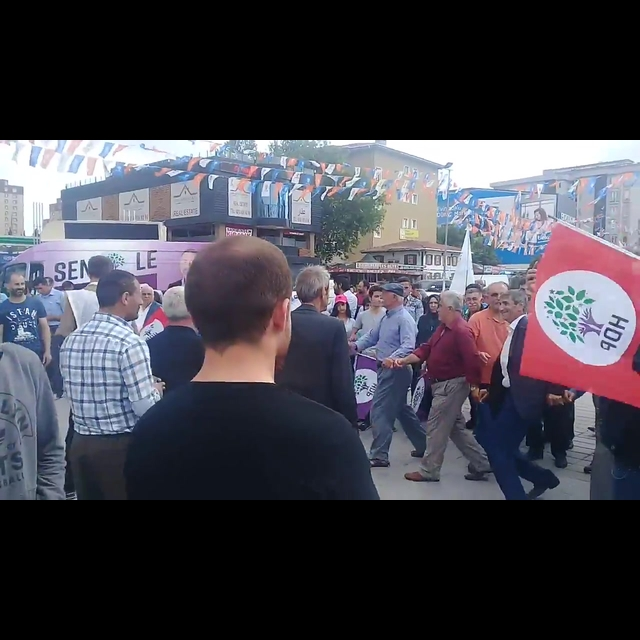HDP: (540, 278, 602, 353), (352, 371, 369, 396)
